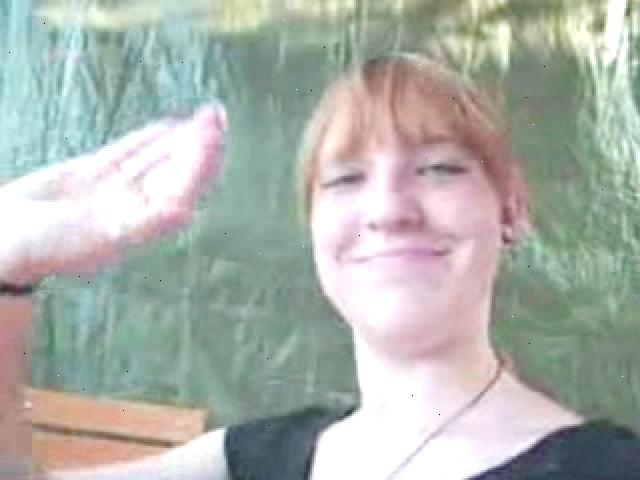T: (6, 56, 636, 478)
